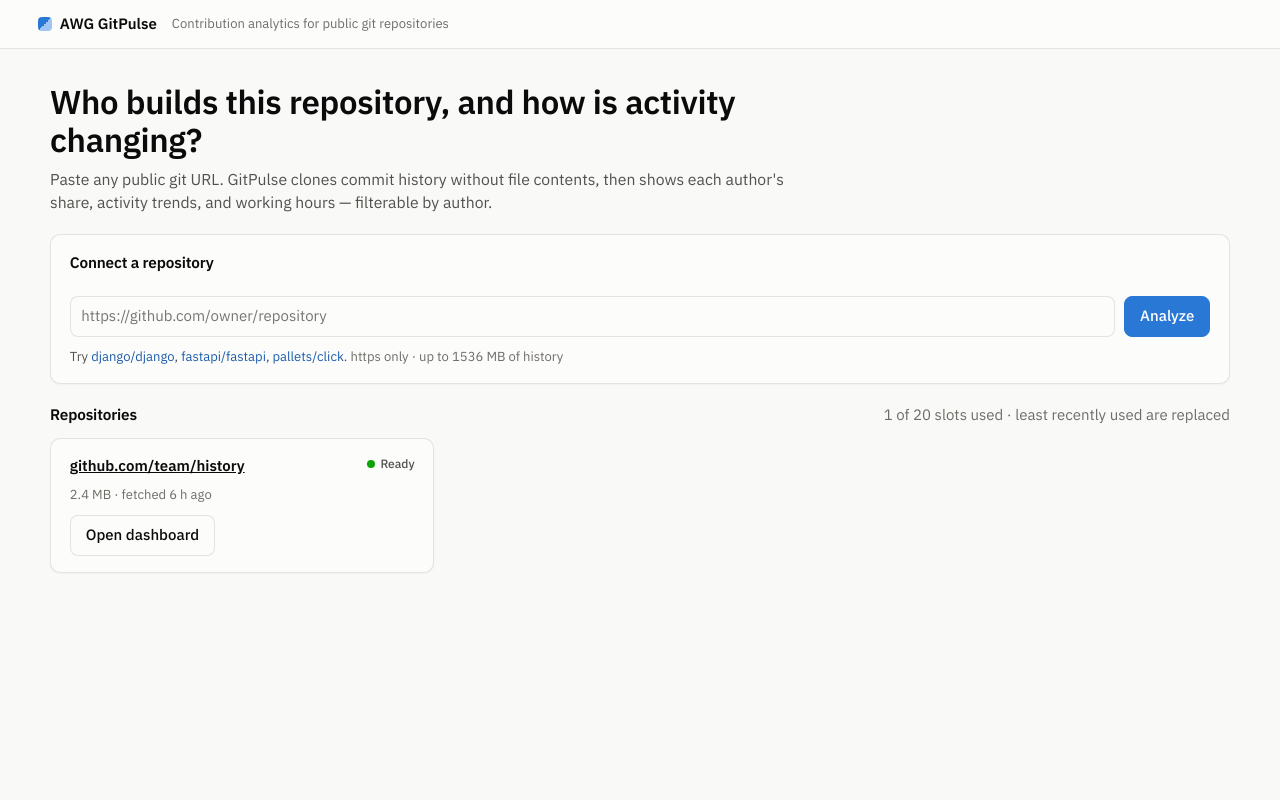
Test: Home › lists repositories and validates URLs before connecting
The image size is (1280, 800).
Expected: the link "github.com/team/history" is shown, [70,455,245,478]
Expected: the text "Ready" is shown, [367,455,415,473]
In the field named "Repository URL": (592, 316) [70,296,1115,337], type "git@github.com:a/b.git"
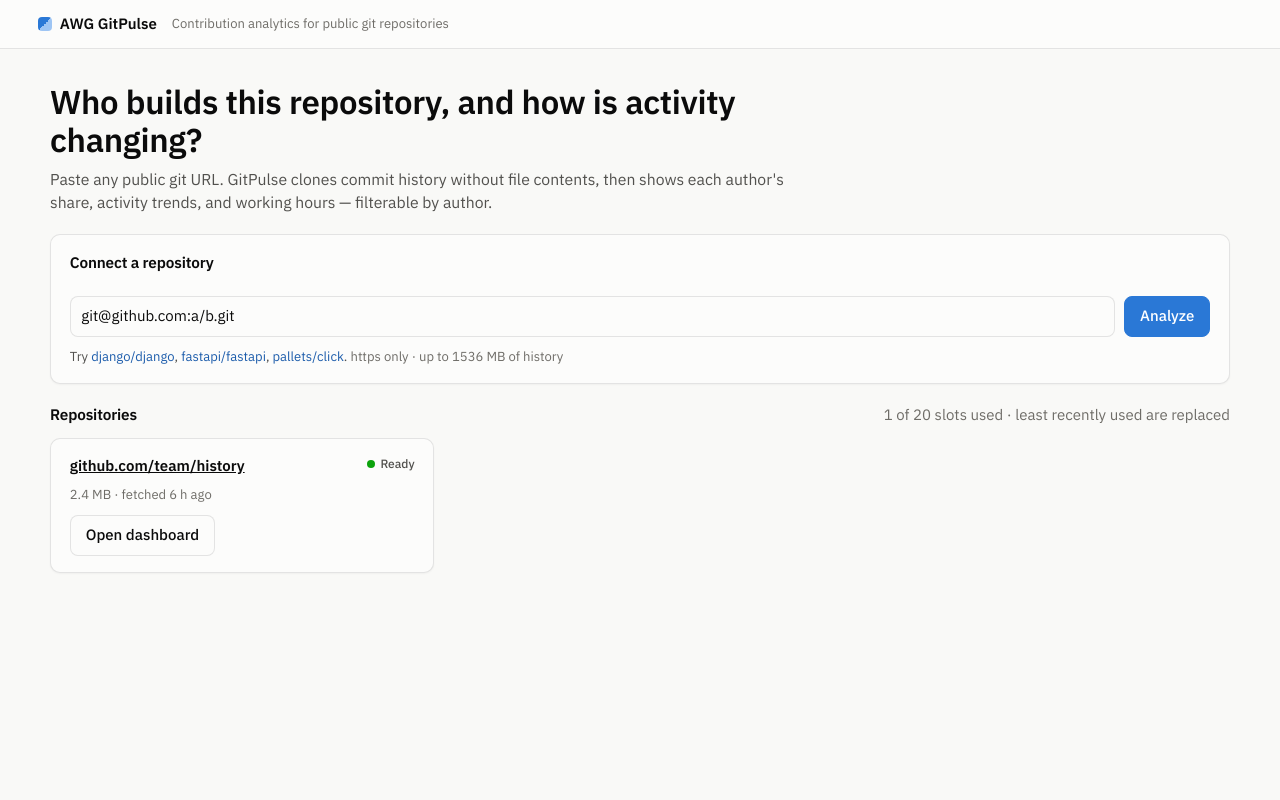
Click the button "Analyze": click(1167, 316) [1124,296,1210,337]
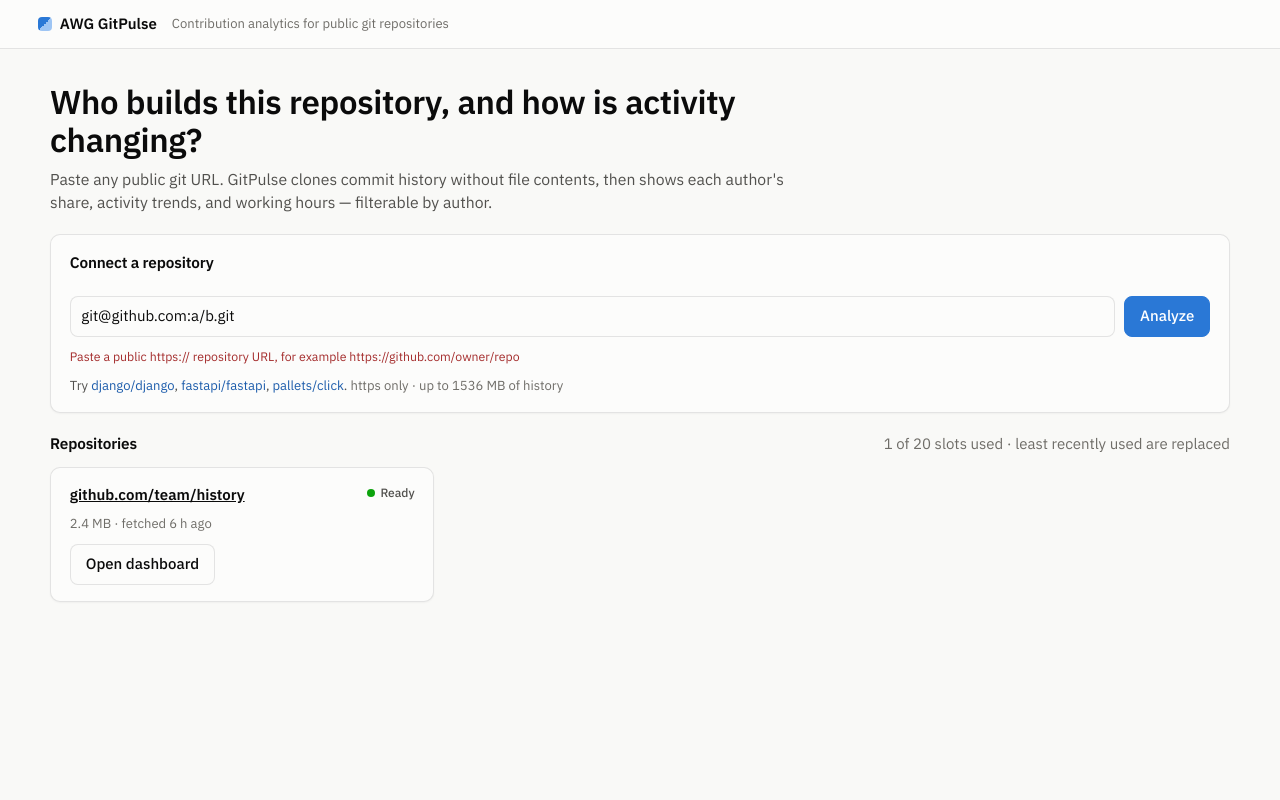
Expected: the message shows "https://", [70,348,520,364]
